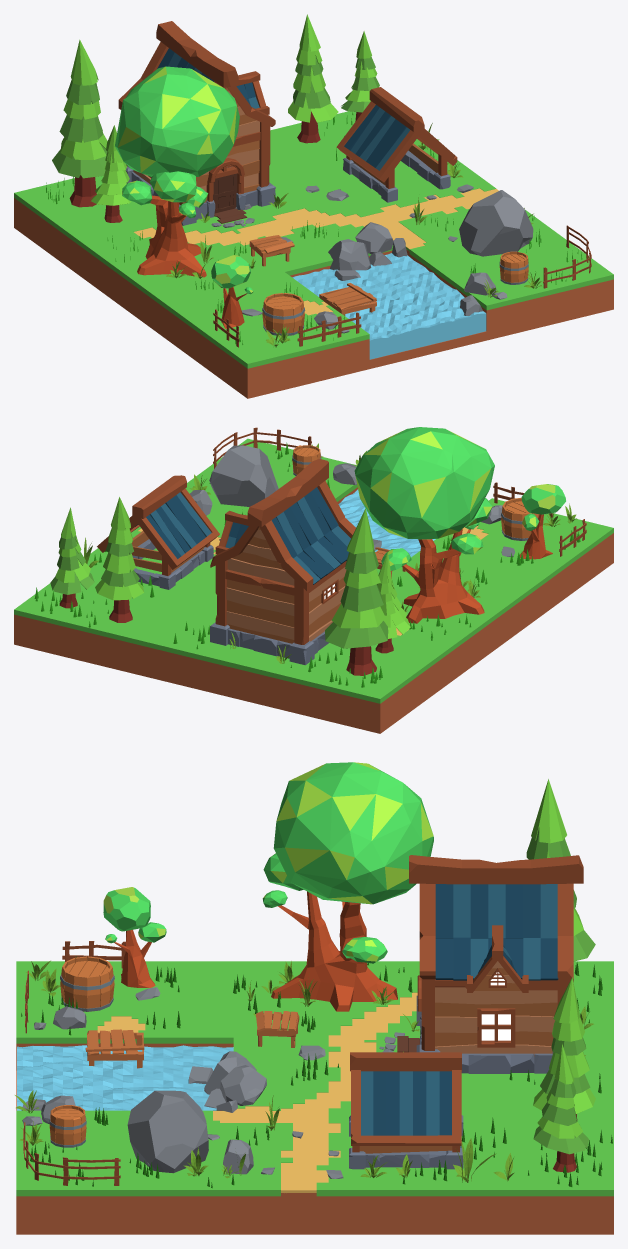
File: countryside_cottage_03.glb
3 views of the same model, one above another, from view 1: azimuth 30°, elevation 25°; view 2: azimuth 150°, elevation 25°; view 3: azimuth 270°, elevation 25° (orthographic). The views are drawn at different scales.
Visible parts, largest first — view 1: Plane.005_10, TREE 1_15, TREE 3_18, WATER_11, Cube.003_25, Cube.006_28, Plane.007_20, Cube.001_21, Plane.004_26, BAREL_13, Plane_22, Plane.001_12 (+5 smaller); view 2: Plane.005_10, TREE 1_15, TREE 3_18, Cube.003_25, Plane_22, Cube.001_21, Cube.006_28, Plane.004_26, TREE 2_17, GRASS_19, BAREL_13, WATER_11 (+2 smaller); view 3: Plane.005_10, TREE 1_15, Cube.003_25, Cube.001_21, Cube.006_28, WATER_11, TREE 3_18, Plane.007_20, Plane_22, BAREL_13, Plane.004_26, Plane.014_16 (+5 smaller).
Part boxes in pixels (bbox=[...]): Plane.005_10: bbox=[14, 111, 613, 398]; TREE 1_15: bbox=[115, 66, 239, 277]; TREE 3_18: bbox=[52, 14, 379, 222]; WATER_11: bbox=[292, 253, 486, 359]; Cube.003_25: bbox=[118, 21, 457, 205]; Cube.006_28: bbox=[211, 184, 533, 333]; Plane.007_20: bbox=[134, 188, 498, 315]; Cube.001_21: bbox=[157, 48, 409, 170]; Plane.004_26: bbox=[125, 150, 450, 225]; BAREL_13: bbox=[262, 251, 528, 335]; Plane_22: bbox=[133, 88, 438, 202]; Plane.001_12: bbox=[249, 235, 376, 315]; Plane.005_10: bbox=[14, 438, 613, 733]; TREE 1_15: bbox=[354, 427, 494, 623]; TREE 3_18: bbox=[50, 497, 410, 675]; Cube.003_25: bbox=[97, 459, 355, 644]; Plane_22: bbox=[131, 527, 346, 643]; Cube.001_21: bbox=[135, 487, 350, 584]; Cube.006_28: bbox=[190, 445, 514, 556]; Plane.004_26: bbox=[132, 539, 328, 665]; TREE 2_17: bbox=[519, 484, 565, 559]; GRASS_19: bbox=[34, 442, 580, 687]; BAREL_13: bbox=[292, 445, 543, 540]; WATER_11: bbox=[338, 489, 435, 557]; Plane.005_10: bbox=[16, 961, 613, 1234]; TREE 1_15: bbox=[262, 762, 433, 1011]; Cube.003_25: bbox=[350, 855, 583, 1152]; Cube.001_21: bbox=[361, 884, 558, 1135]; Cube.006_28: bbox=[21, 987, 404, 1178]; WATER_11: bbox=[17, 1045, 233, 1110]; TREE 3_18: bbox=[526, 779, 595, 1172]; Plane.007_20: bbox=[97, 992, 417, 1192]; Plane_22: bbox=[359, 961, 557, 1153]; BAREL_13: bbox=[49, 956, 114, 1147]; Plane.004_26: bbox=[349, 995, 553, 1169]; Plane.014_16: bbox=[15, 960, 593, 1182].
Size of the model in its own units: 34.14 by 19.2 by 37.87.
